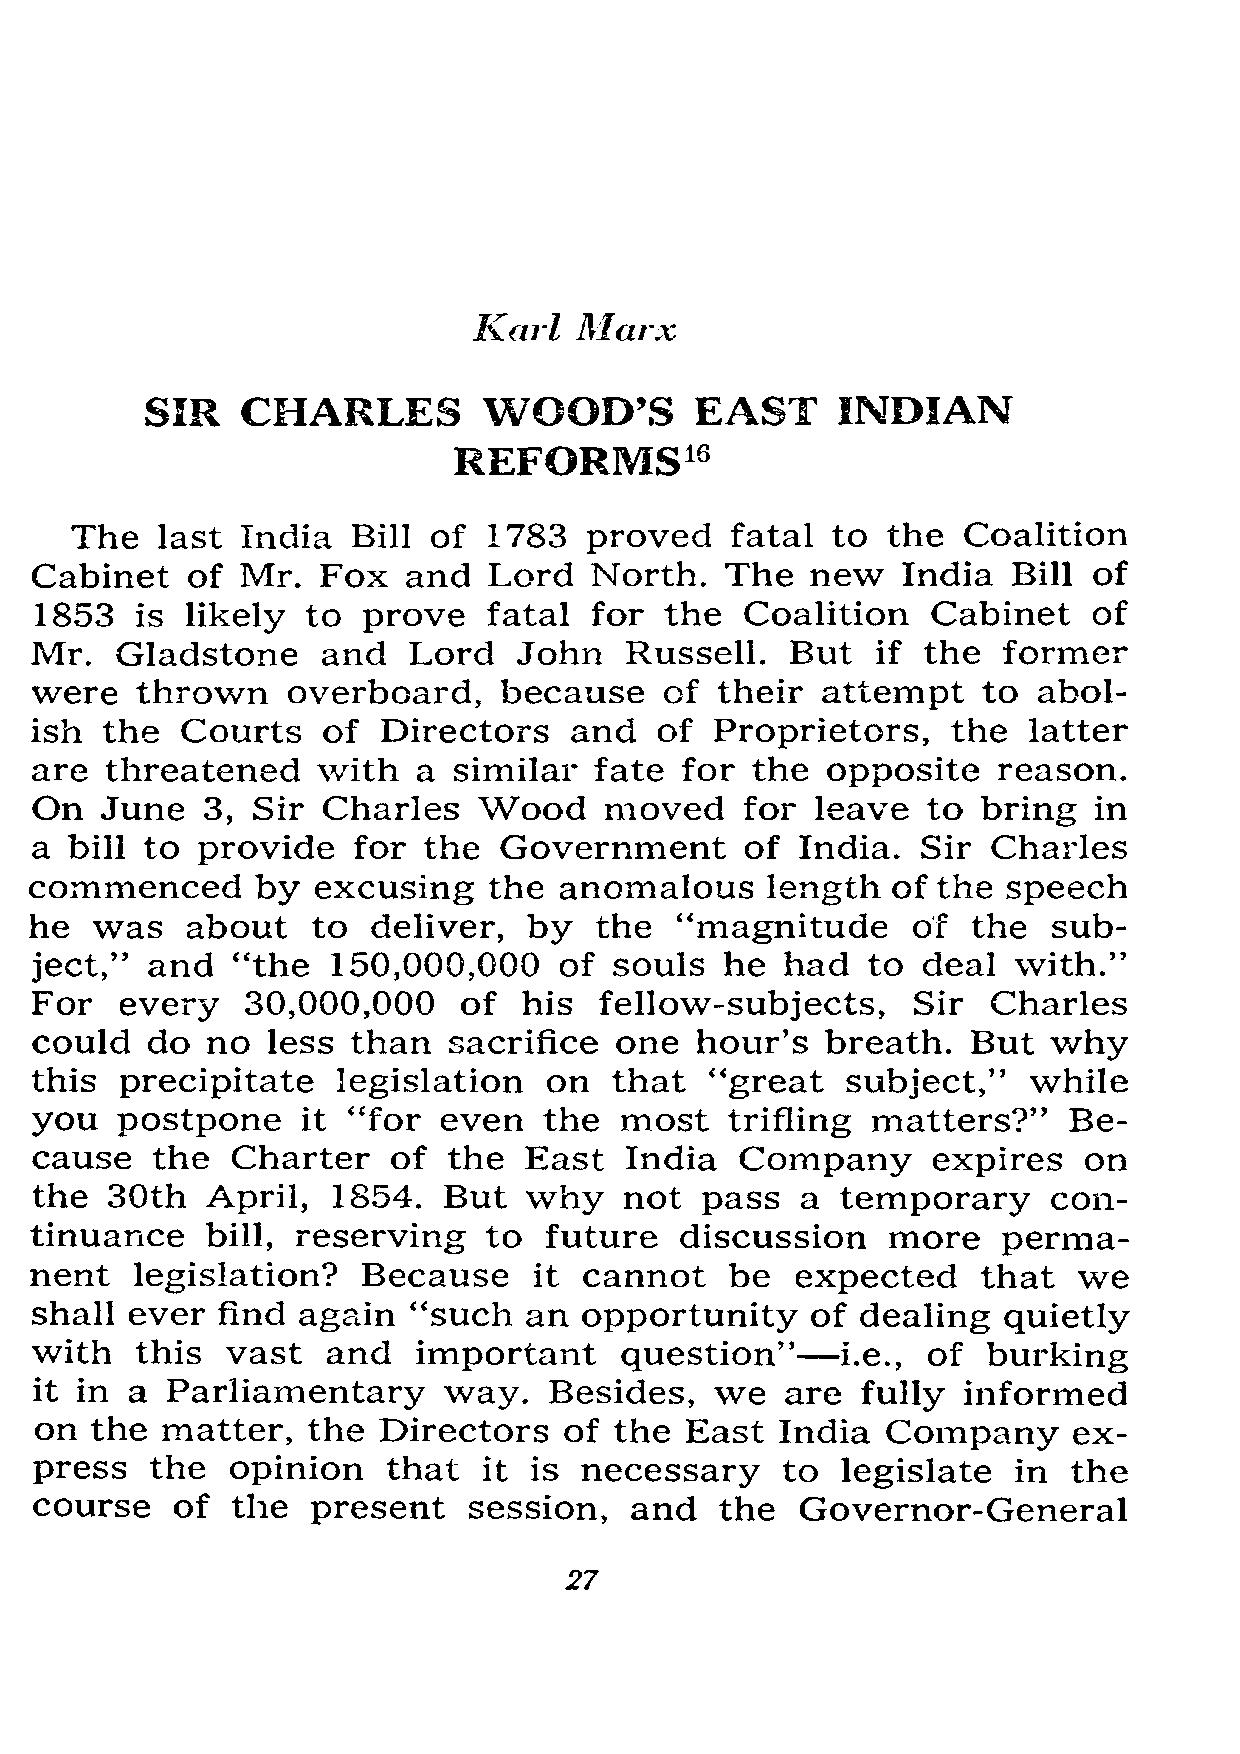TOC_pagenumber: (141, 309, 1015, 480)
content: (23, 517, 1138, 1529)
content_pagenumber: (562, 1563, 600, 1596)
